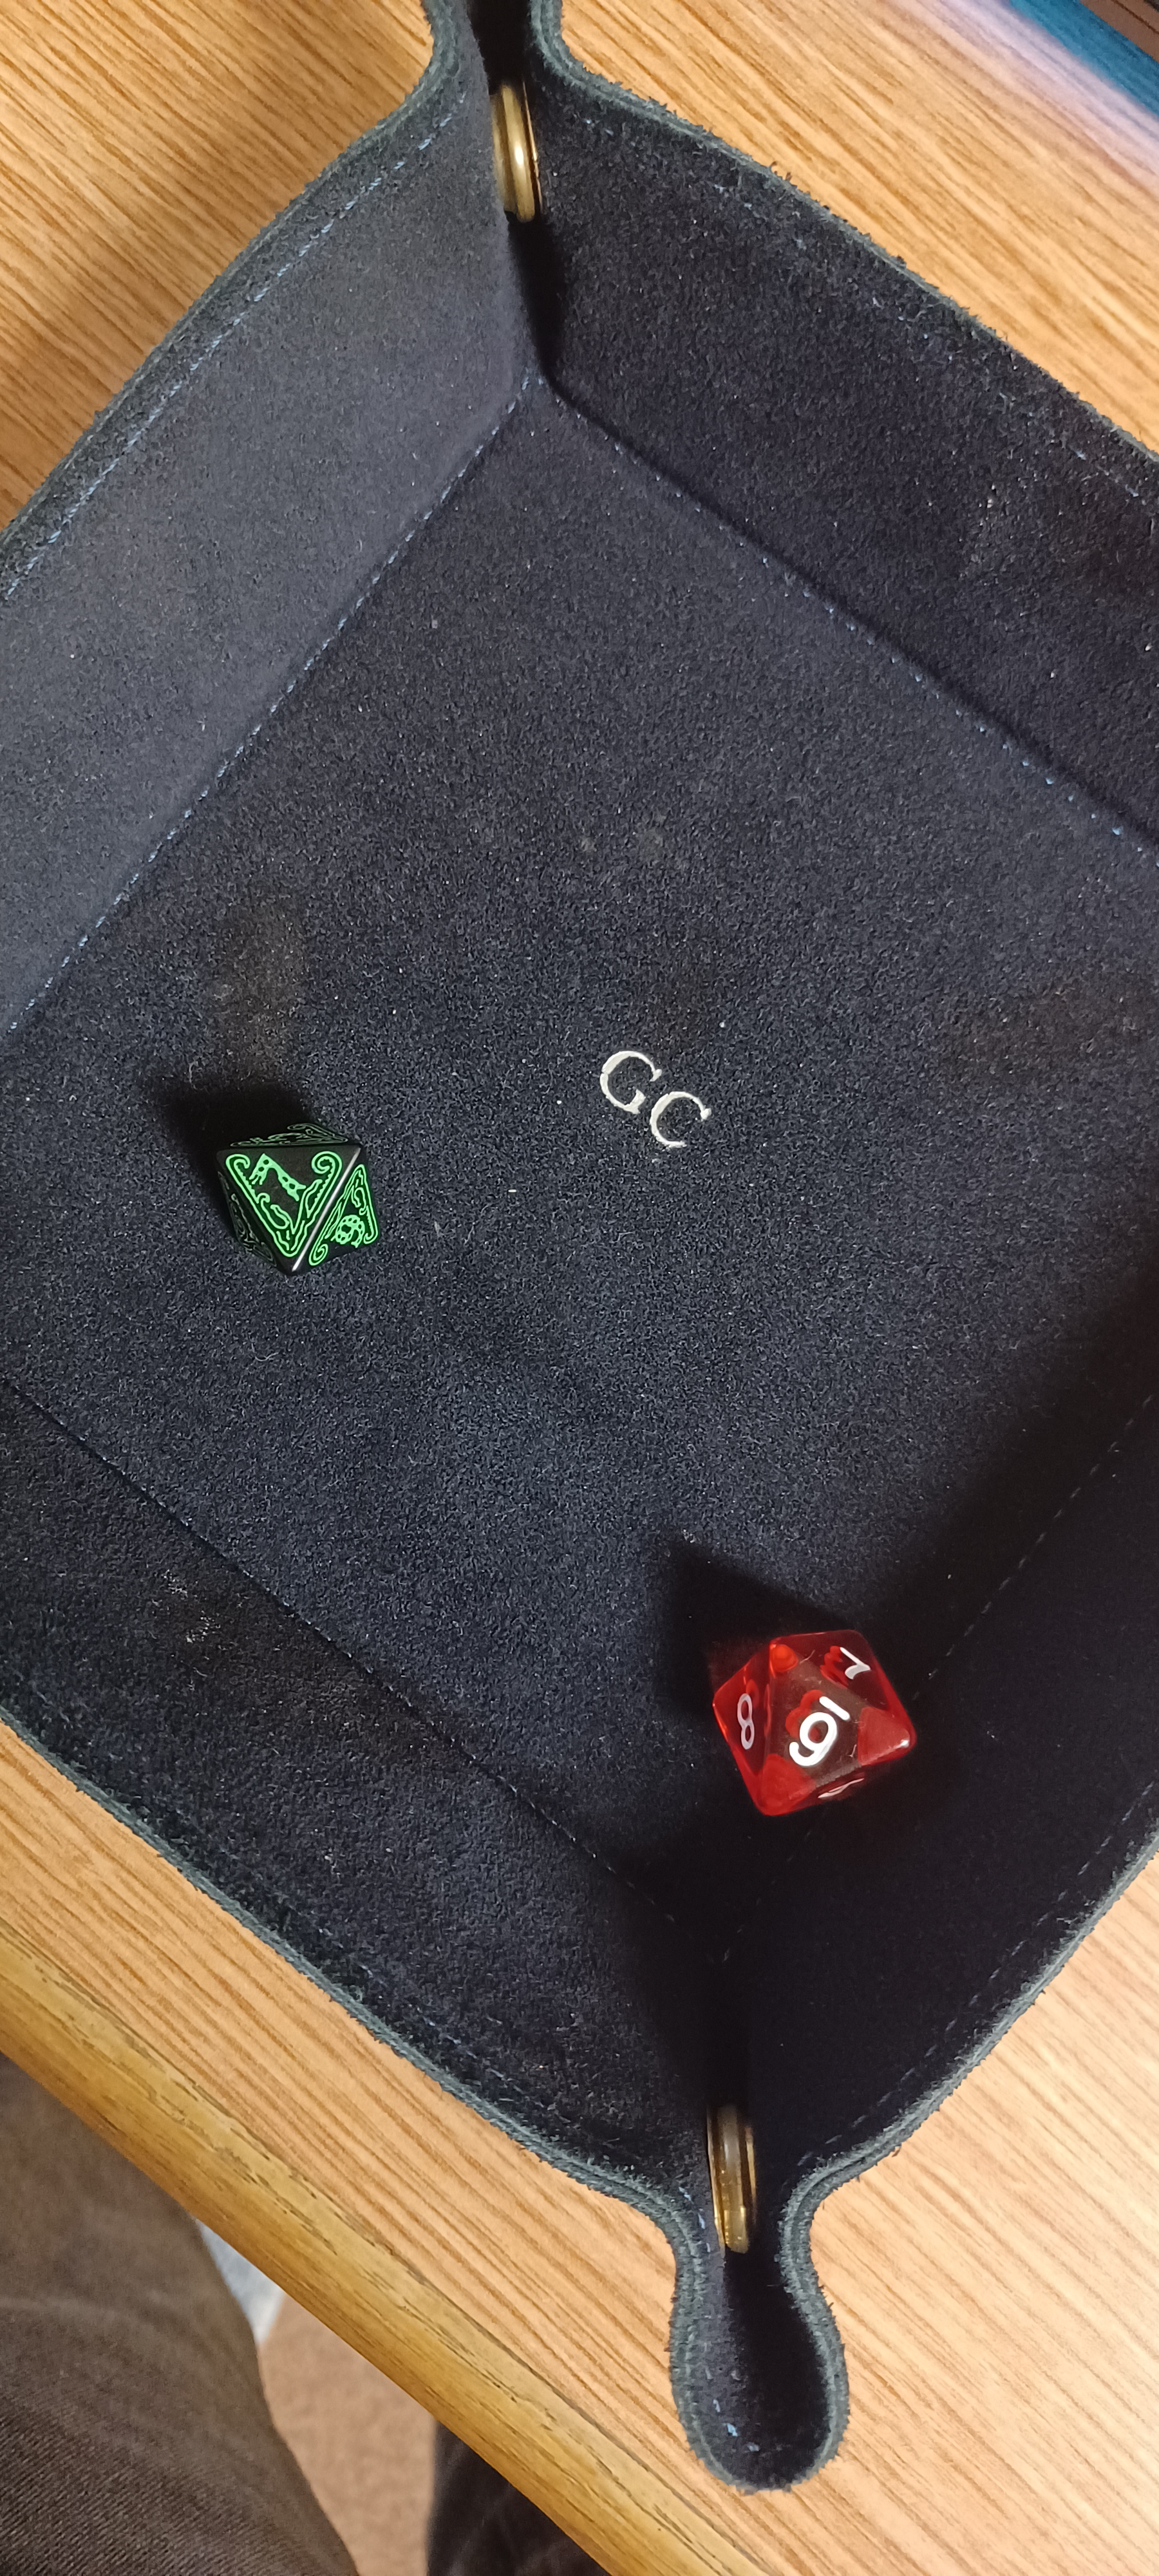seven: (186, 1083, 419, 1308)
six: (689, 1584, 947, 1856)
